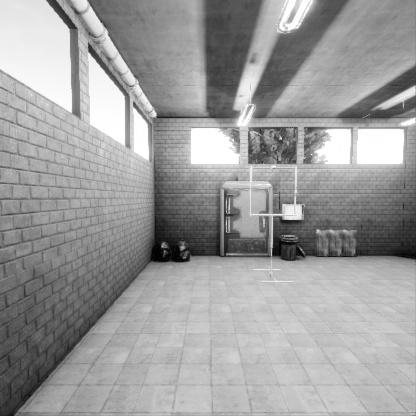gate: (249, 202, 300, 251)
